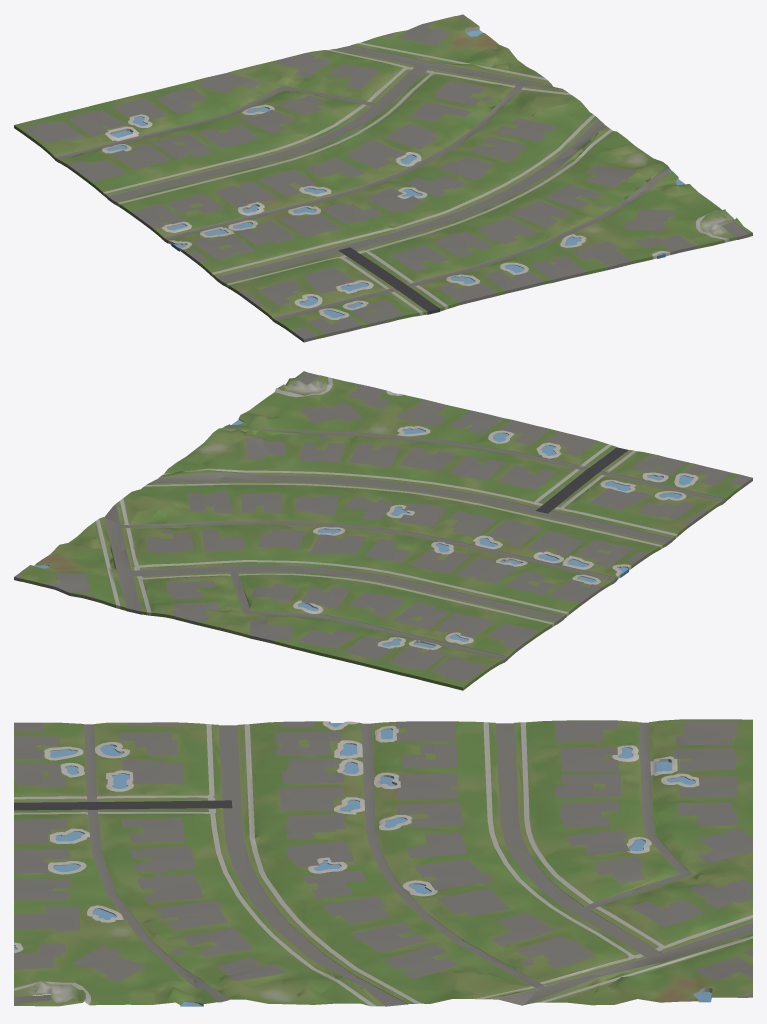
3 renders of one model, top to bottom at view 1: azimuth 30°, elevation 25°; view 2: azimuth 150°, elevation 25°; view 3: azimuth 270°, elevation 25°, orthographic. The views are drawn at different scales.
Parts seen in each view (by area): view 1: T-3-0.L2:utd:matte, T-3-0.L2:utd:water; view 2: T-3-0.L2:utd:matte, T-3-0.L2:utd:water; view 3: T-3-0.L2:utd:matte, T-3-0.L2:utd:water.
Part boxes in pixels (x1,y1,x2,y2): T-3-0.L2:utd:matte: (14, 14, 752, 342); T-3-0.L2:utd:water: (107, 30, 684, 317); T-3-0.L2:utd:matte: (14, 371, 752, 690); T-3-0.L2:utd:water: (34, 392, 693, 647); T-3-0.L2:utd:matte: (14, 719, 752, 1006); T-3-0.L2:utd:water: (14, 723, 711, 1006).
Size of the model in its own units: 229 by 4.9 by 256.
